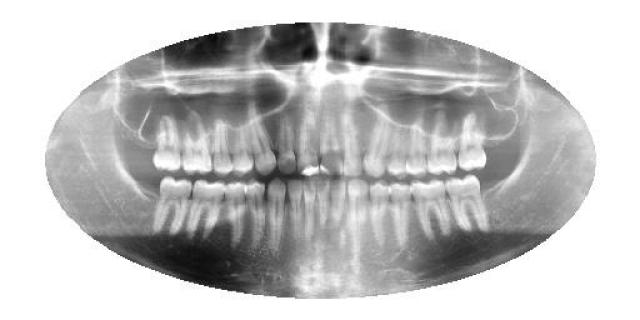Fillings: (296, 112, 320, 178)
